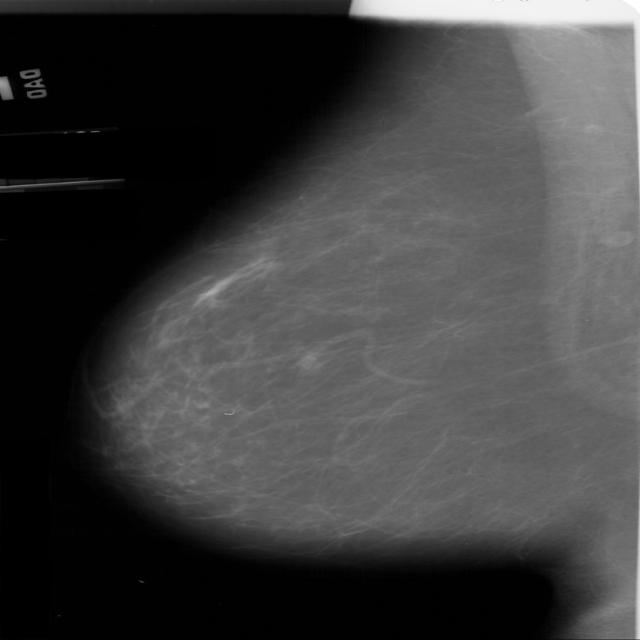tumour: (293, 353, 316, 371)
